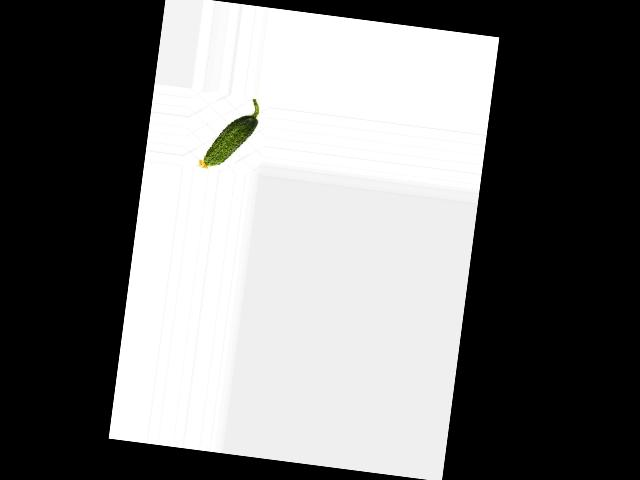cucumber: (197, 93, 261, 174)
